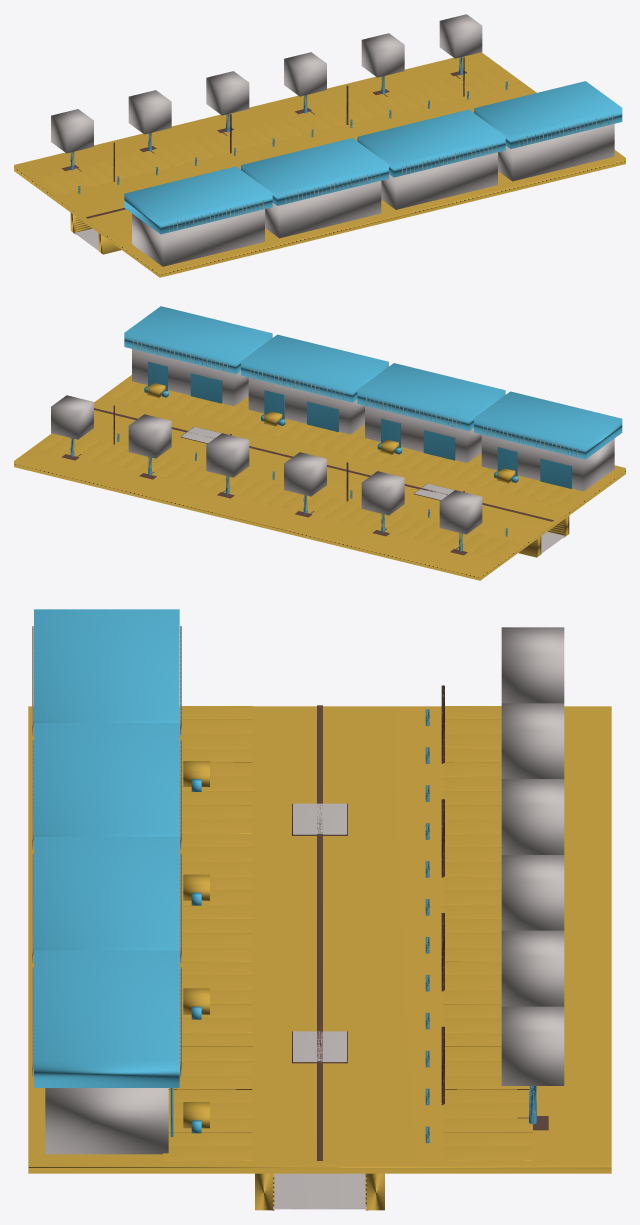
3 views of the same model, one above another, from view 1: azimuth 30°, elevation 25°; view 2: azimuth 150°, elevation 25°; view 3: azimuth 270°, elevation 25° (orthographic). The views are drawn at different scales.
Visible parts, largest first — view 1: samcheong_hanok_facade, samcheong_street_and_culvert, samcheong_brass_inlay; view 2: samcheong_street_and_culvert, samcheong_hanok_facade, samcheong_brass_inlay, samcheong_glass_and_stream; view 3: samcheong_street_and_culvert, samcheong_hanok_facade, samcheong_brass_inlay, samcheong_glass_and_stream.
Part boxes in pixels (x1=…): samcheong_hanok_facade: x1=124, y1=81, x2=622, y2=266; samcheong_street_and_culvert: x1=14, y1=52, x2=625, y2=277; samcheong_brass_inlay: x1=51, y1=14, x2=507, y2=218; samcheong_street_and_culvert: x1=14, y1=375, x2=625, y2=580; samcheong_hanok_facade: x1=124, y1=306, x2=622, y2=491; samcheong_brass_inlay: x1=51, y1=383, x2=553, y2=555; samcheong_glass_and_stream: x1=180, y1=426, x2=564, y2=553; samcheong_street_and_culvert: x1=28, y1=706, x2=611, y2=1210; samcheong_hanok_facade: x1=32, y1=609, x2=181, y2=1154; samcheong_brass_inlay: x1=183, y1=627, x2=564, y2=1160; samcheong_glass_and_stream: x1=273, y1=803, x2=366, y2=1209.
Bounding box in the file's own units: 48 × 7.55 × 26.
4 materials, 4 textured.
